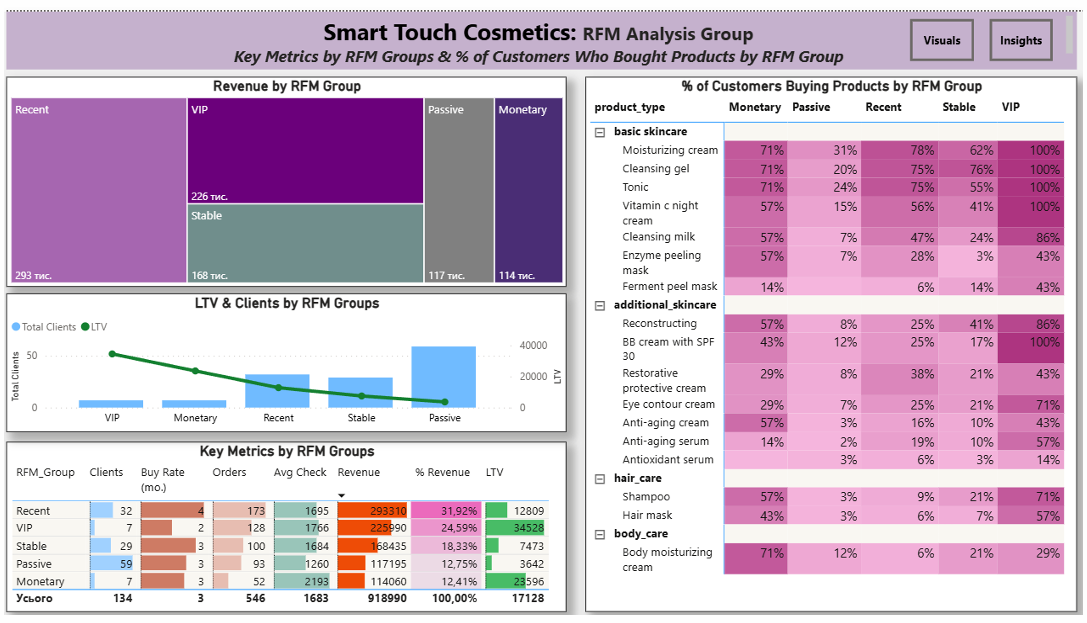

Layout of this report page (visuals, bound fields, positions):
{"tool":"powerbi","page":{"name":"RFM","canvas":[1280,720],"ordinal":6},"visuals":[{"type":"textbox","title":"Заголовок","box":[9.3,0,1261.6,68.6],"z":0},{"type":"tableEx","title":"Key Metrics by RFM Groups","fields":{"Values":["sells.RFM_Group","_DAX_measures_.Total Clients","_DAX_measures_.AvgIntMonths","_DAX_measures_.Total Orders","_DAX_measures_.Average Check","_DAX_measures_.Total Revenue","Divide(_DAX_measures_.Total Revenue, ScopedEval(_DAX_measures_.Total Revenue, []))","_DAX_measures_.LTV"]},"box":[9.3,511.3,660.4,202.3],"z":0,"group":"g1"},{"type":"pivotTable","title":"% of Customers Buying Products by RFM Group ","fields":{"Rows":["price.product_type","sells.product"],"Columns":["sells.RFM_Group"],"Values":["_DAX_measures_.Pct Clients by GroupProduct"]},"box":[691.8,77.9,579.1,636],"z":1000,"group":"g1"},{"type":"treemap","title":" Revenue by RFM Group","fields":{"Group":["sells.RFM_Group"],"Values":["_DAX_measures_.Total Revenue"]},"box":[9.3,78.1,660.4,249.5],"z":2000,"group":"g1"},{"type":"actionButton","box":[1073.3,9.3,75.6,50],"z":3000},{"type":"lineClusteredColumnComboChart","title":"LTV & Clients by RFM Groups","fields":{"Category":["sells.RFM_Group"],"Y2":["_DAX_measures_.LTV"],"Y":["_DAX_measures_.Total Clients"]},"box":[9.3,335.1,660.4,165.1],"z":3000,"group":"g1"},{"type":"actionButton","box":[1167.4,9.3,74.4,50],"z":4000},{"type":"group","id":"g1","title":"Графіки","box":[9.3,77.9,1261.6,636],"z":5000}]}

Visuals, with their boxes in screenshot pixels (x1, y1, x2, y2), scaled from the page's 1280x720 canvas onto the 1087x623 screenshot:
"Заголовок" textbox: box(8, 0, 1079, 59)
"Key Metrics by RFM Groups" tableEx: box(8, 442, 569, 617)
"% of Customers Buying Products by RFM Group " pivotTable: box(587, 67, 1079, 618)
" Revenue by RFM Group" treemap: box(8, 68, 569, 283)
actionButton: box(911, 8, 976, 51)
"LTV & Clients by RFM Groups" lineClusteredColumnComboChart: box(8, 290, 569, 433)
actionButton: box(991, 8, 1055, 51)
"Графіки" group: box(8, 67, 1079, 618)
